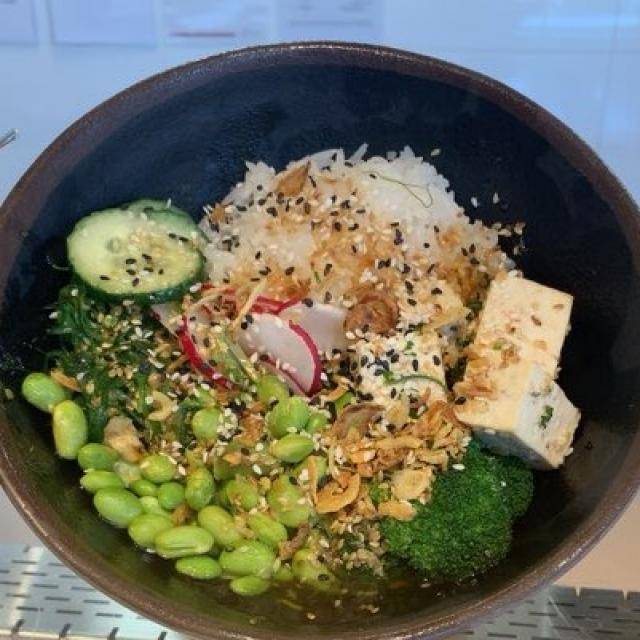almonds: (300, 382, 439, 525)
broccoli: (350, 432, 537, 599)
cucumber: (70, 192, 218, 320)
red-radish: (175, 275, 343, 390)
rice-jasmin: (140, 139, 495, 407)
sesame-seeds: (103, 190, 474, 530)
tofu: (434, 259, 583, 472)
